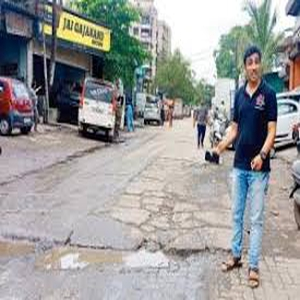pothole: (1, 231, 222, 276)
